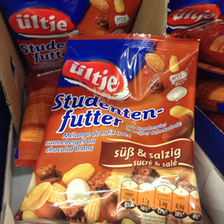nuts: (17, 35, 201, 223)
